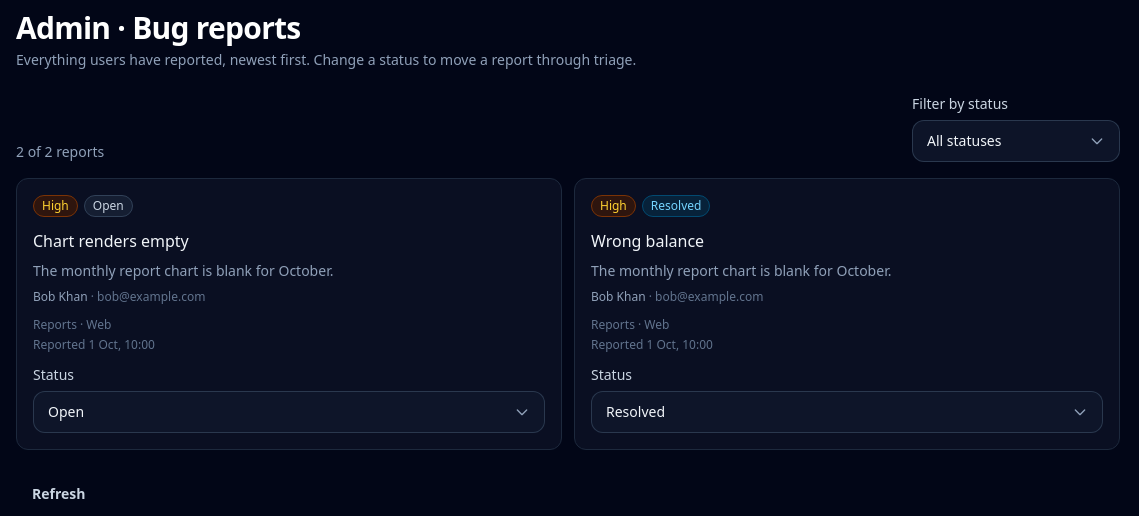
Scenario: AdminBugReportsPage › filters by status on the client
The image size is (1139, 516).
Expected: the heading "Chart renders empty" is shown, [33,230,189,252]
What coordinates should you click on to do the following:
click the button named "Filter by status"
I would click on:
 (1016, 141)
Its box is [912,120,1120,162].
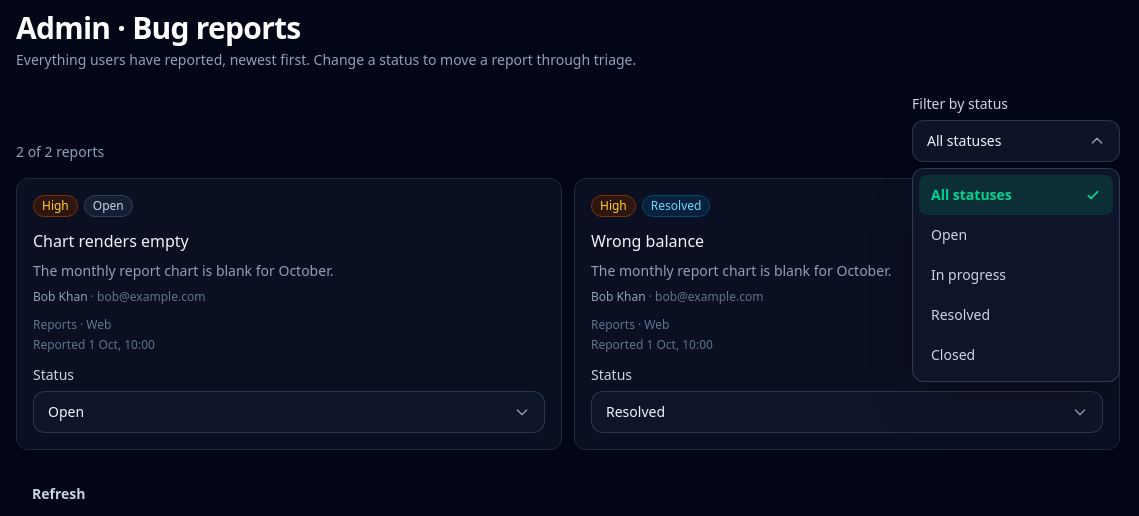
What coordinates should you click on to do the following:
click the option "Resolved"
I would click on:
 (960, 314)
Its box is [931,305,990,324].
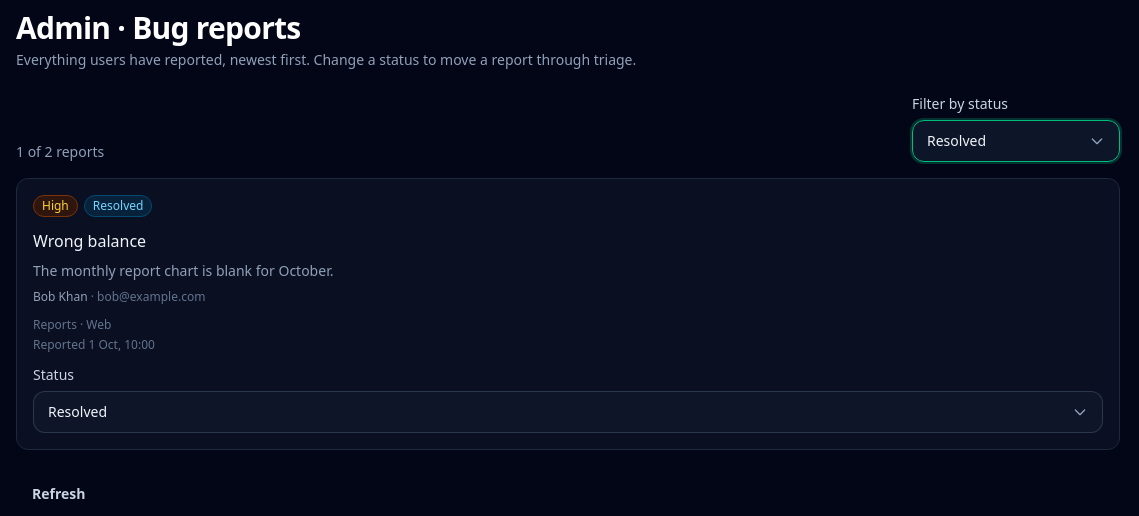
Expected: the heading "Wrong balance" is shown, [33,230,146,252]
Expected: the text "1 of 2 reports" is shown, [16,142,104,162]
Expected: the heading "Chart renders empty" is gone
